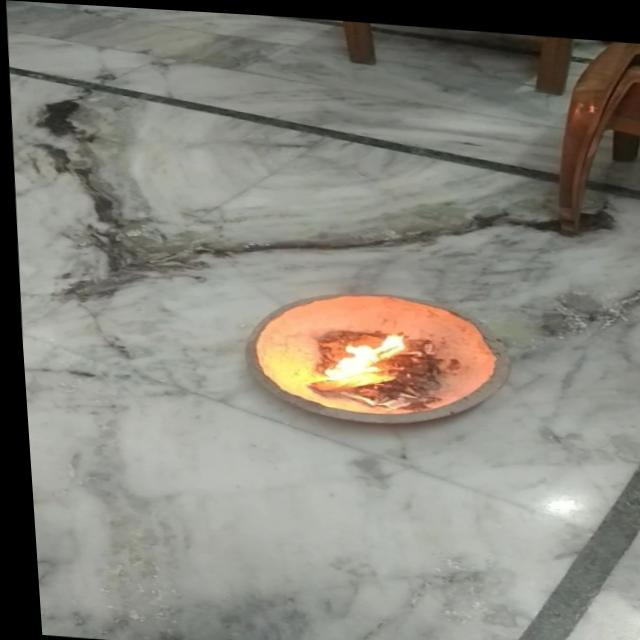fire: (304, 320, 410, 387)
